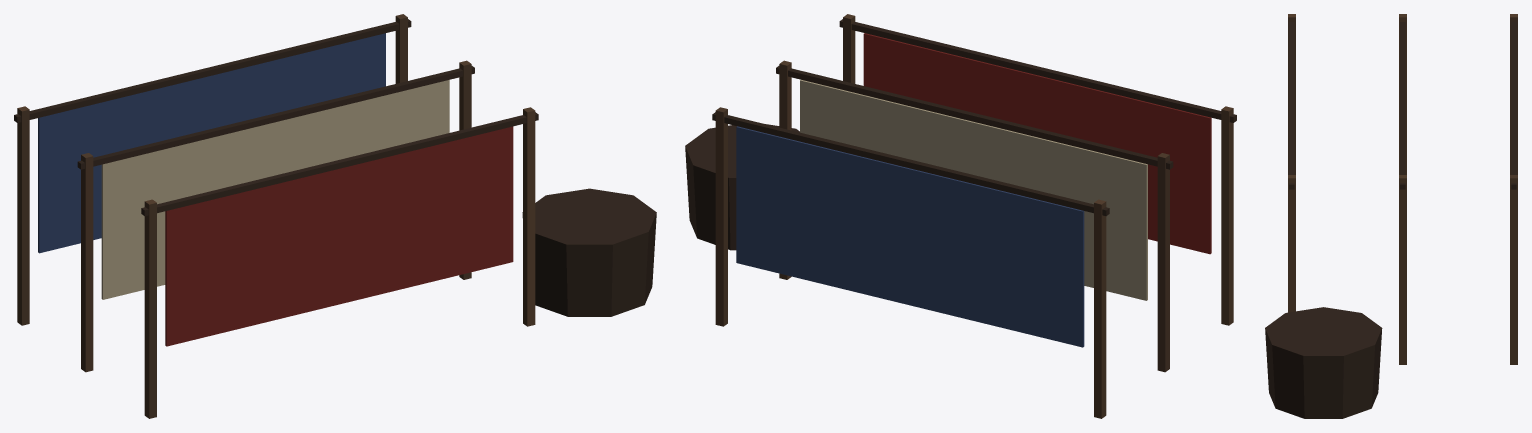
The model's file is yard_loom.glb.
3 renders of one model, left to right at view 1: azimuth 30°, elevation 25°; view 2: azimuth 150°, elevation 25°; view 3: azimuth 270°, elevation 25°, orthographic. The views are drawn at different scales.
Visible parts, largest first — view 1: yard_loom; view 2: yard_loom; view 3: yard_loom.
Part boxes in pixels (left/top/right/bottom): yard_loom: left=14, top=14, right=656, bottom=418; yard_loom: left=685, top=14, right=1236, bottom=418; yard_loom: left=1265, top=14, right=1517, bottom=418.
Bounding box in the file's own units: 6.6 × 2.6 × 3.19.
Materials: 1 (1 with a texture image).
